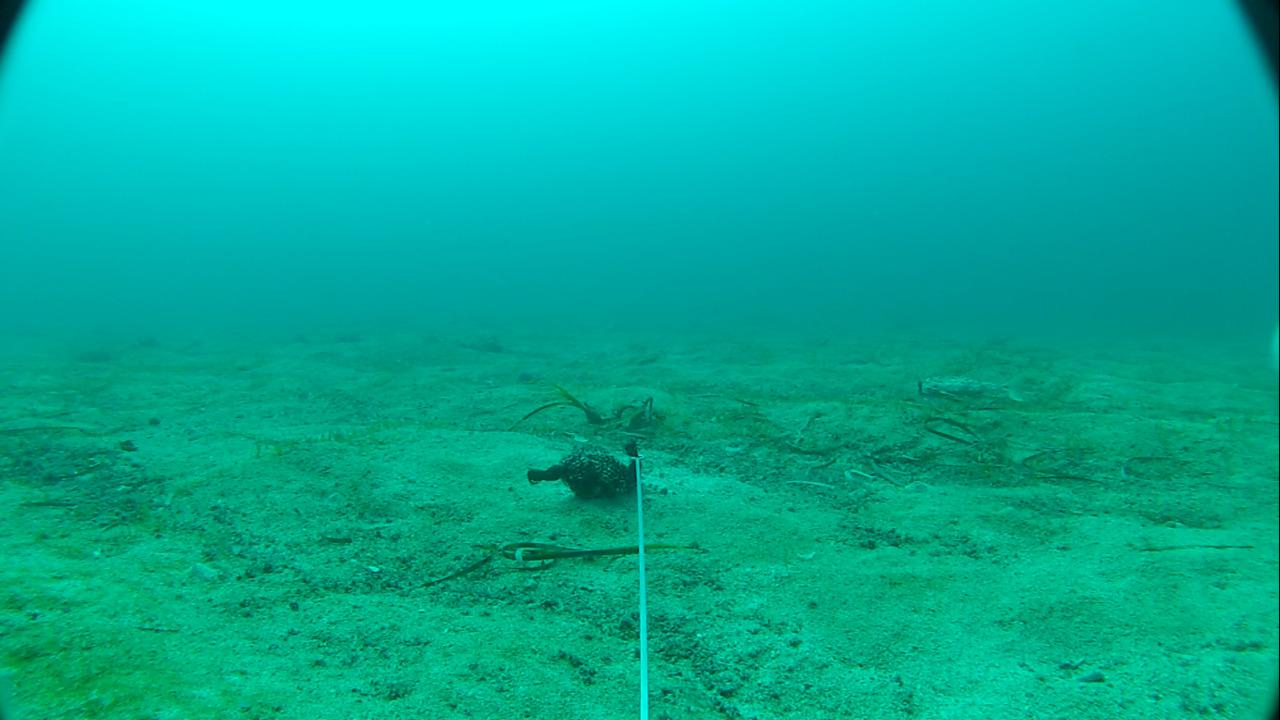dactylopterus: (908, 367, 1028, 406)
